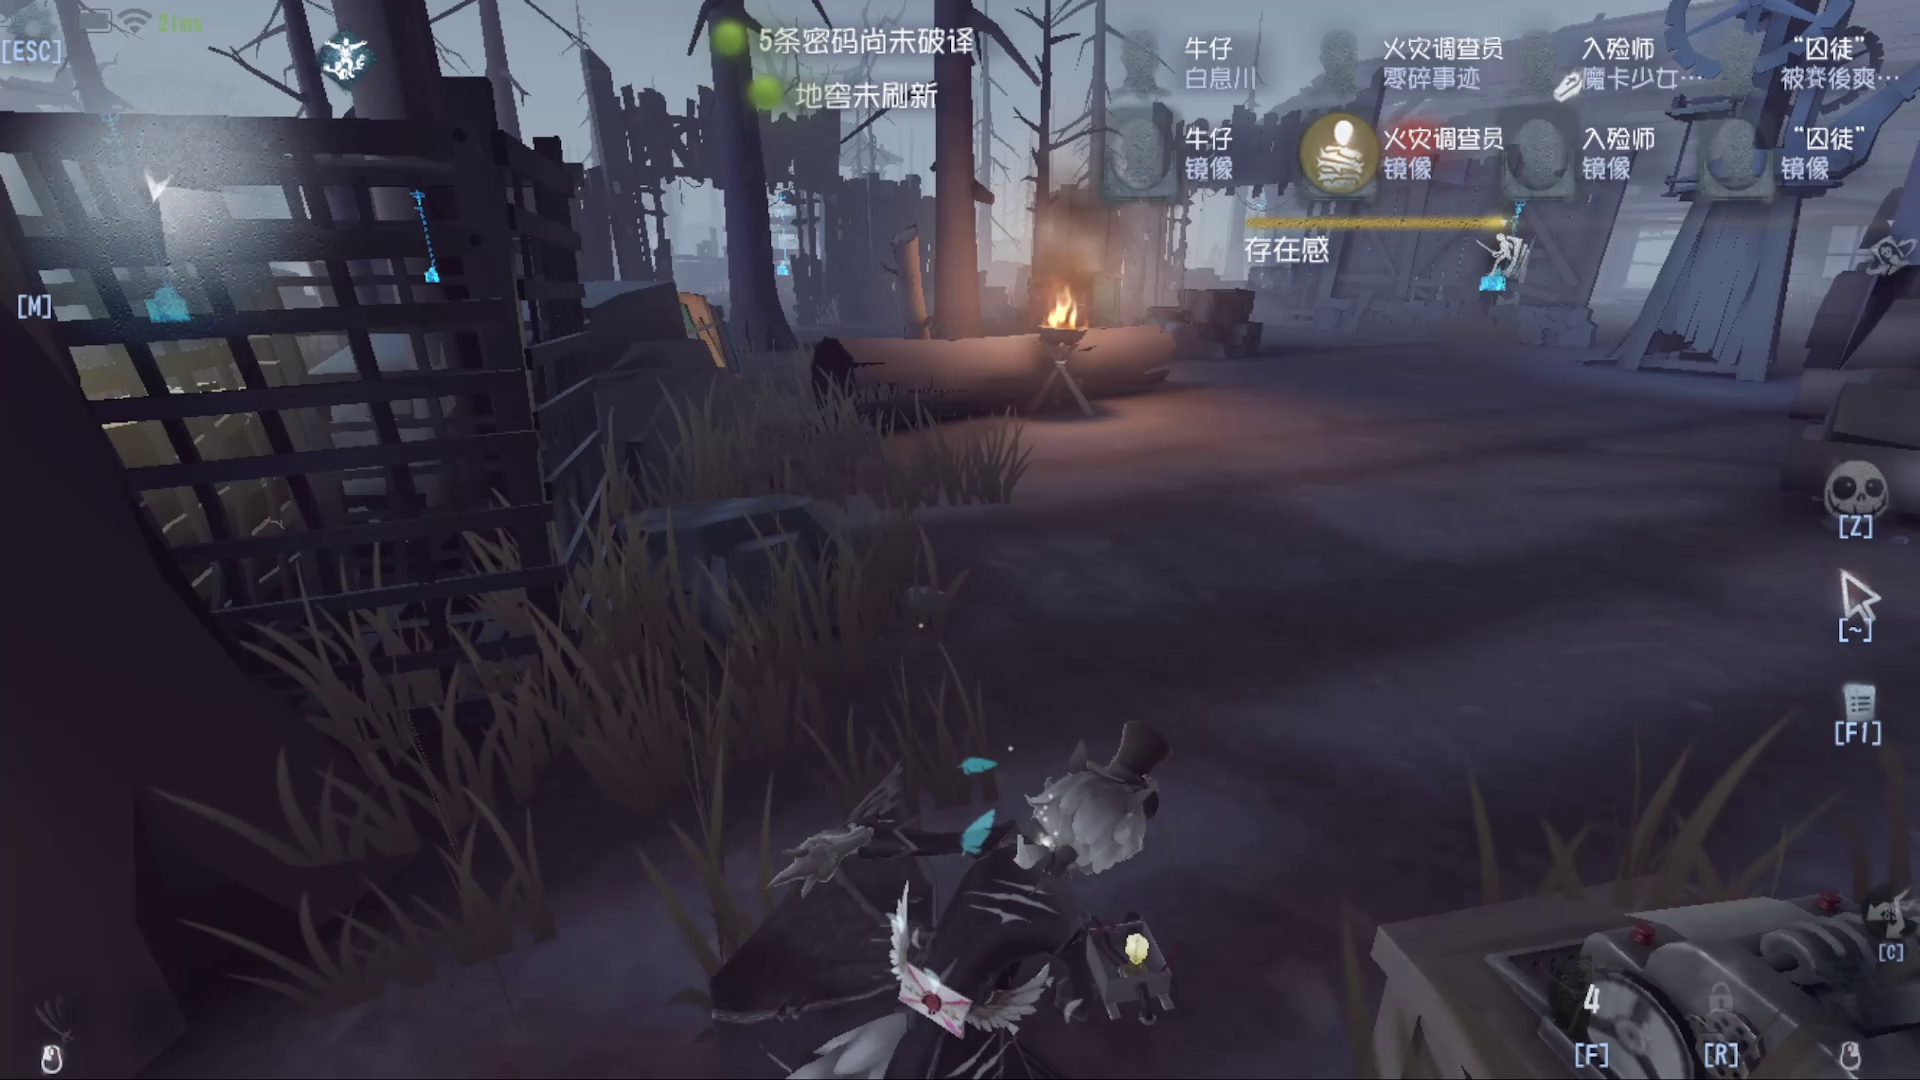密码机: (1472, 156, 1540, 326), (394, 170, 455, 307)
木板: (655, 280, 748, 393)
